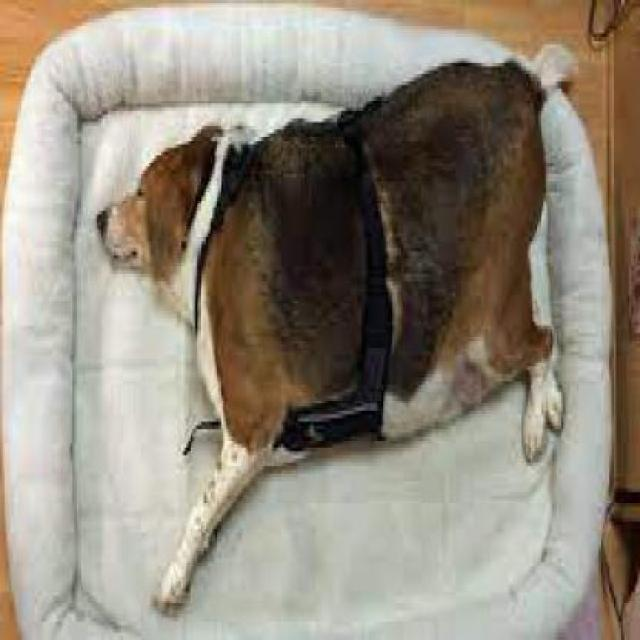Dog: (90, 57, 578, 614)
